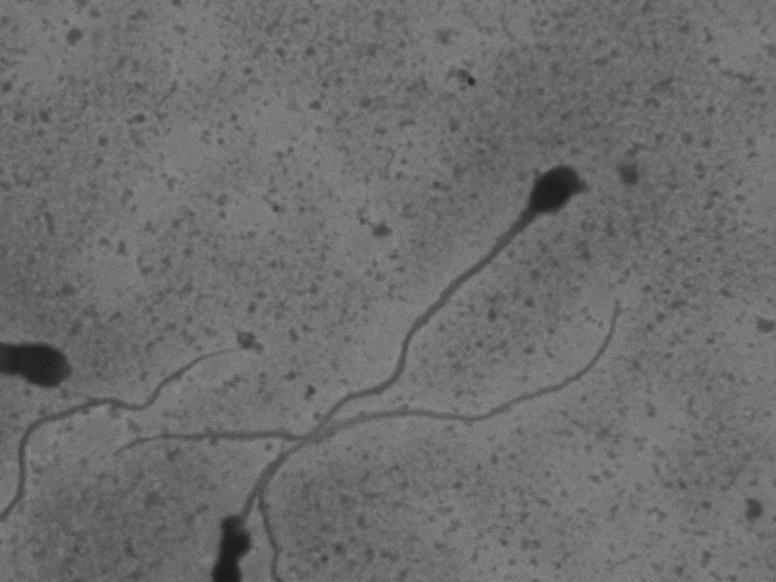Normal: (107, 149, 606, 465)
